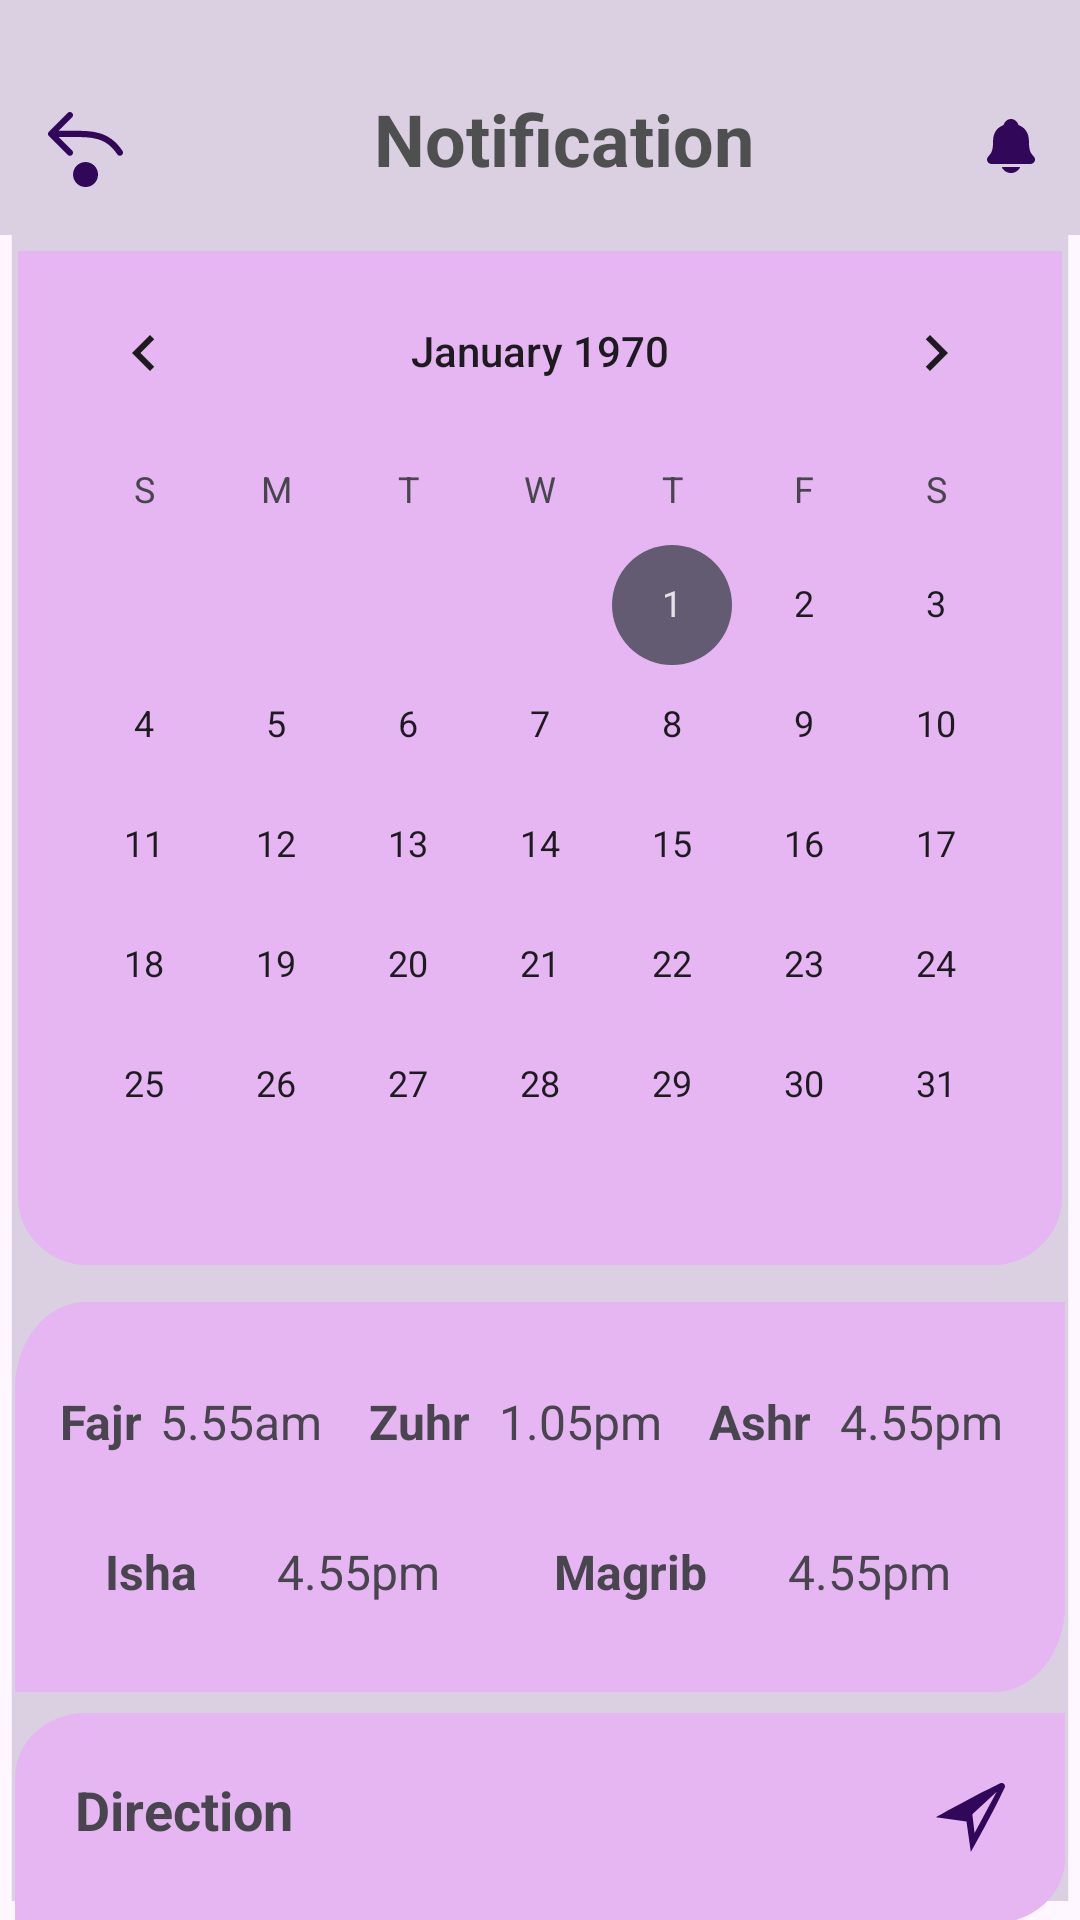

Locate icon controls on the screen. Image size 1080px×1920px, boxes as bbox(x1, y1, x2, y2).
backicon: bbox(48, 112, 123, 187)
